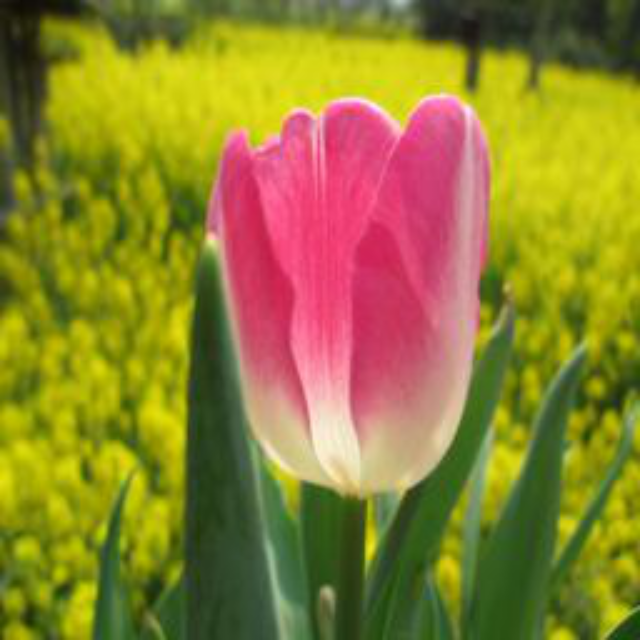tulip: (200, 94, 491, 511)
